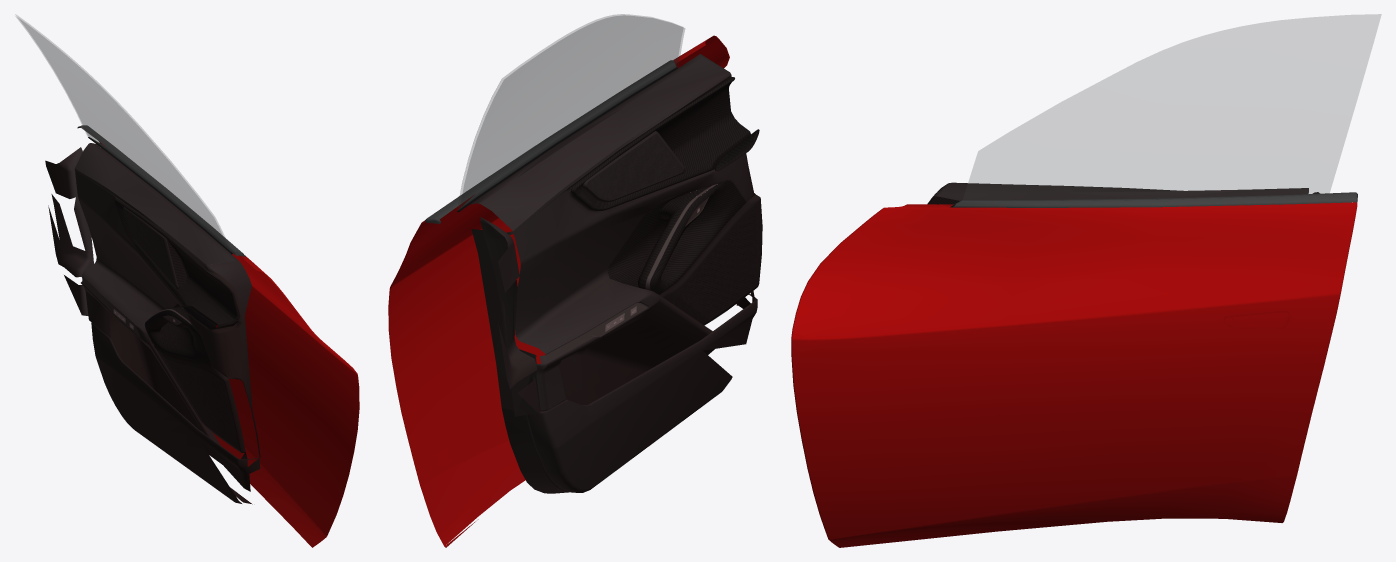
The model's file is door_lf.glb.
The picture shows the model from 3 angles, left to right: view 1: azimuth 30°, elevation 25°; view 2: azimuth 150°, elevation 25°; view 3: azimuth 270°, elevation 25°; orthographic projection. The views are drawn at different scales.
Visible parts, largest first — view 1: Paint_Geo_lodA_Ferrari_PurosangueRewardRecycled_2023Paint_M., Paint_Geo_lodA_Ferrari_PurosangueRewardRecycled_2023Paint_Ma; view 2: Paint_Geo_lodA_Ferrari_PurosangueRewardRecycled_2023Paint_M., Paint_Geo_lodA_Ferrari_PurosangueRewardRecycled_2023Paint_Ma; view 3: Paint_Geo_lodA_Ferrari_PurosangueRewardRecycled_2023Paint_Ma, Paint_Geo_lodA_Ferrari_PurosangueRewardRecycled_2023Paint_M..
Part boxes in pixels (<box>): Paint_Geo_lodA_Ferrari_PurosangueRewardRecycled_2023Paint_M.: <box>16,15,260,504</box>; Paint_Geo_lodA_Ferrari_PurosangueRewardRecycled_2023Paint_Ma: <box>99,141,359,547</box>; Paint_Geo_lodA_Ferrari_PurosangueRewardRecycled_2023Paint_M.: <box>425,14,762,493</box>; Paint_Geo_lodA_Ferrari_PurosangueRewardRecycled_2023Paint_Ma: <box>388,35,729,547</box>; Paint_Geo_lodA_Ferrari_PurosangueRewardRecycled_2023Paint_Ma: <box>791,202,1357,547</box>; Paint_Geo_lodA_Ferrari_PurosangueRewardRecycled_2023Paint_M.: <box>927,14,1381,207</box>.
Bounding box in the file's own units: 0.0033 × 0.0114 × 0.0125.
8 materials, 3 textured.
